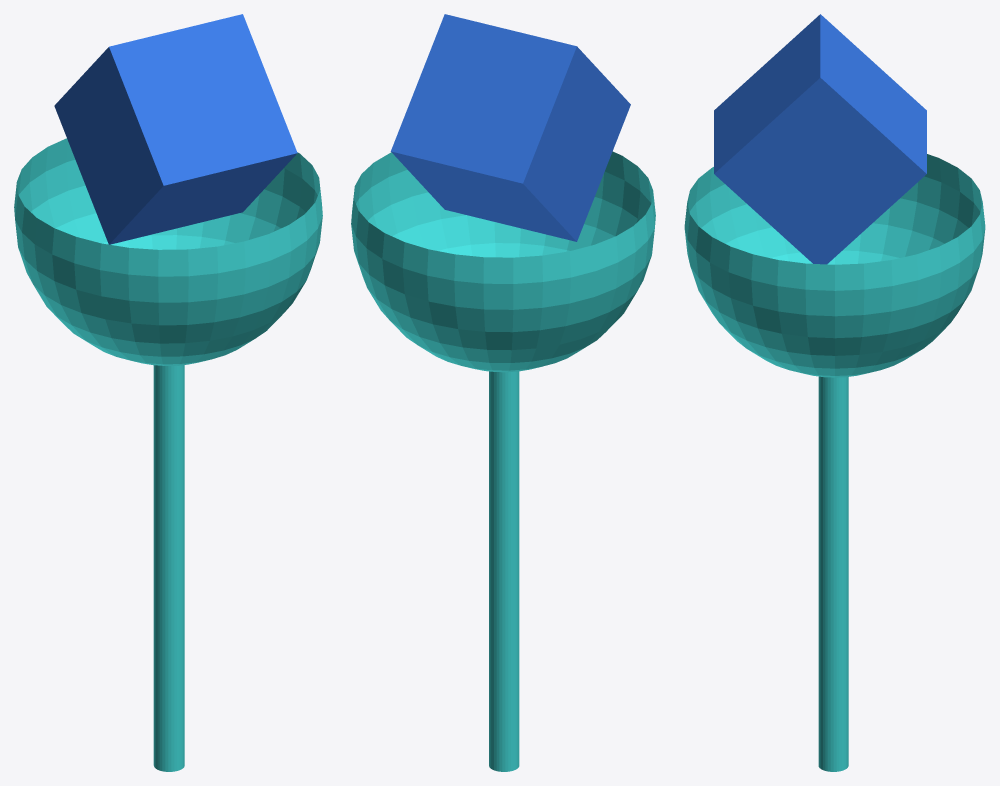
Rendered from neutralidad.fbx.
3 views of the same model, side by side, from view 1: azimuth 30°, elevation 25°; view 2: azimuth 150°, elevation 25°; view 3: azimuth 270°, elevation 25° (orthographic). The views are drawn at different scales.
Parts seen in each view (by area): view 1: Cube.002; view 2: Cube.002; view 3: Cube.002.
Part boxes in pixels (left/top/right/bottom): Cube.002: left=14, top=14, right=322, bottom=771; Cube.002: left=351, top=14, right=655, bottom=771; Cube.002: left=684, top=14, right=985, bottom=771.
Size of the model in its own units: 400 by 1055 by 400.
